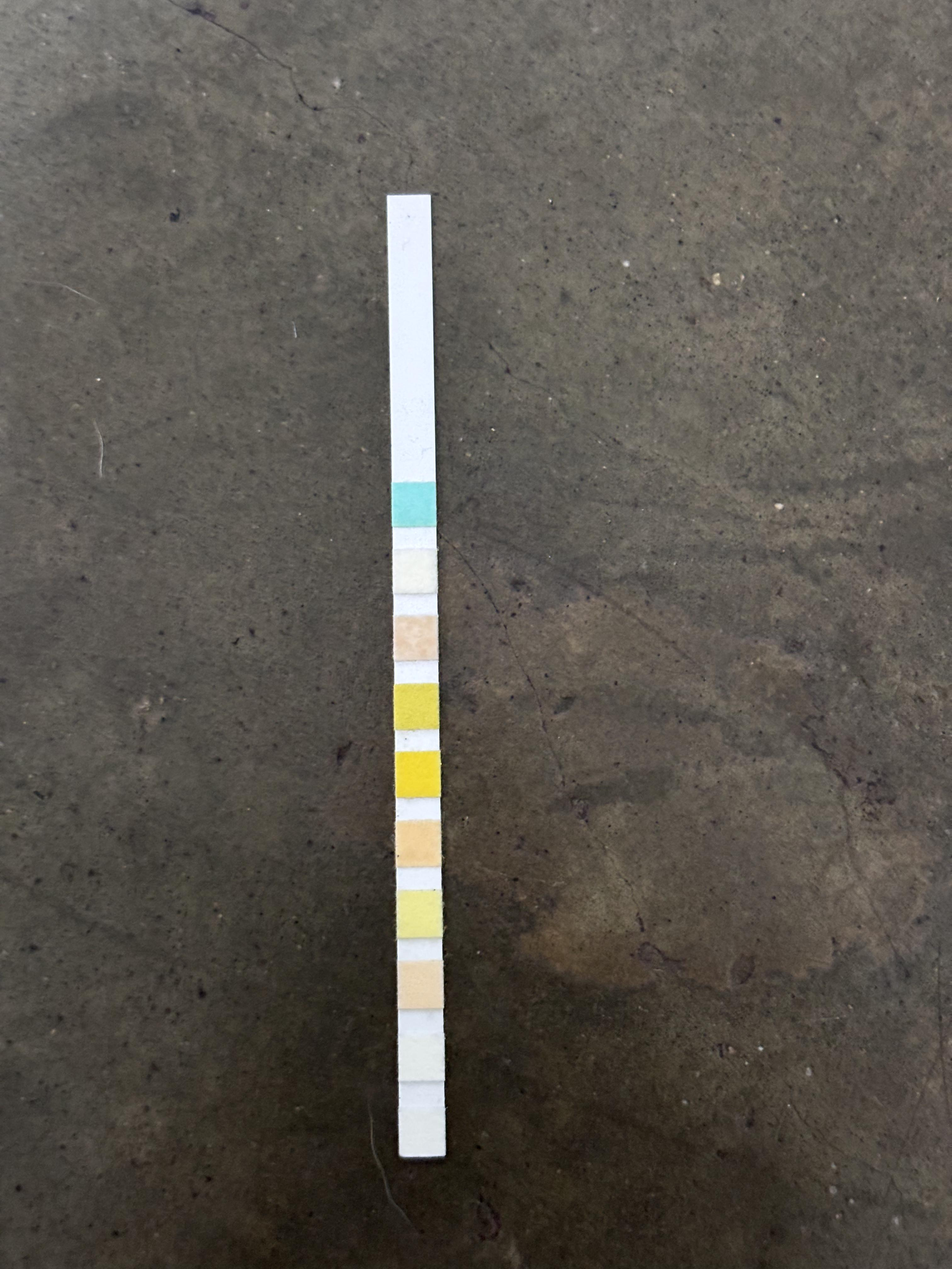Bilirubin: (394, 550, 435, 593)
Blood: (397, 753, 439, 796)
Glucose: (393, 482, 435, 526)
Ketone: (395, 617, 437, 658)
Leukocytes: (401, 1111, 445, 1155)
Nitrite: (402, 1035, 444, 1079)
Protein: (398, 893, 440, 936)
SpGravity: (395, 685, 437, 728)
Urobilinogen: (400, 962, 443, 1007)
pH: (398, 824, 439, 865)
strip: (389, 197, 447, 1156)
